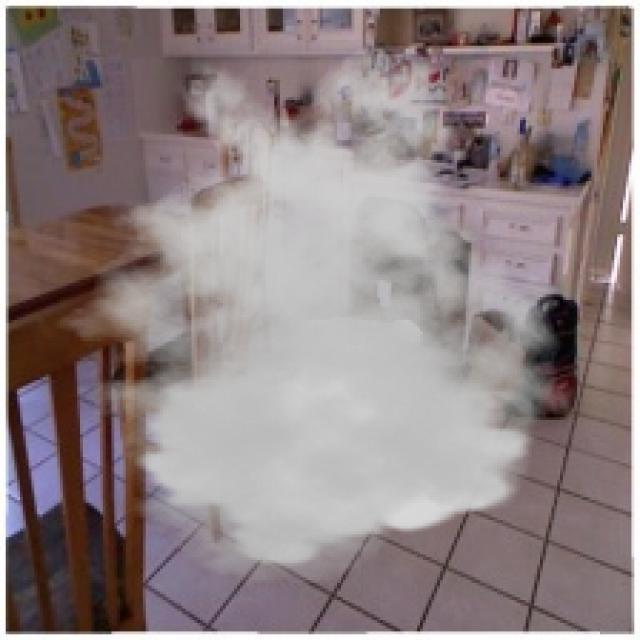smoke: (31, 43, 586, 586)
